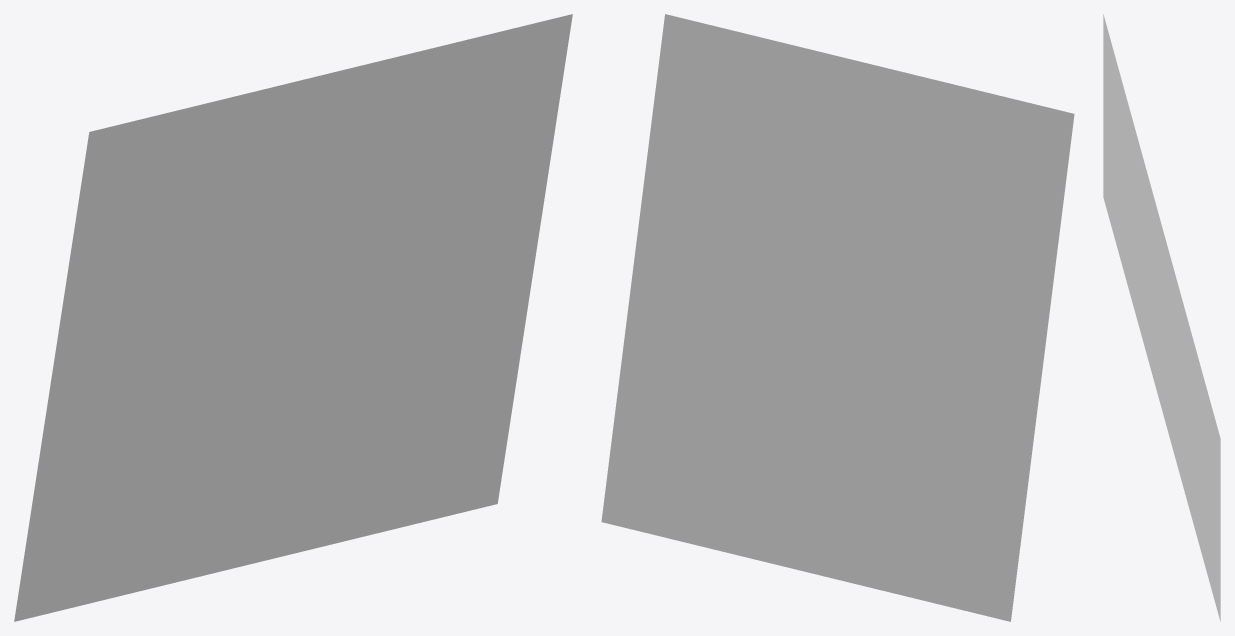
File: primary_114.glb
The picture shows the model from 3 angles, left to right: view 1: azimuth 30°, elevation 25°; view 2: azimuth 150°, elevation 25°; view 3: azimuth 270°, elevation 25°; orthographic projection. The views are drawn at different scales.
Parts seen in each view (by area): view 1: Object; view 2: Object; view 3: Object.
Boxes of the visible parts, x1=… form: Object: x1=14, y1=14, x2=572, y2=621; Object: x1=601, y1=14, x2=1074, y2=621; Object: x1=1103, y1=14, x2=1220, y2=621.
Bounding box in the file's own units: 1.67 × 1.79 × 0.4485.
Materials: 1 (1 with a texture image).
